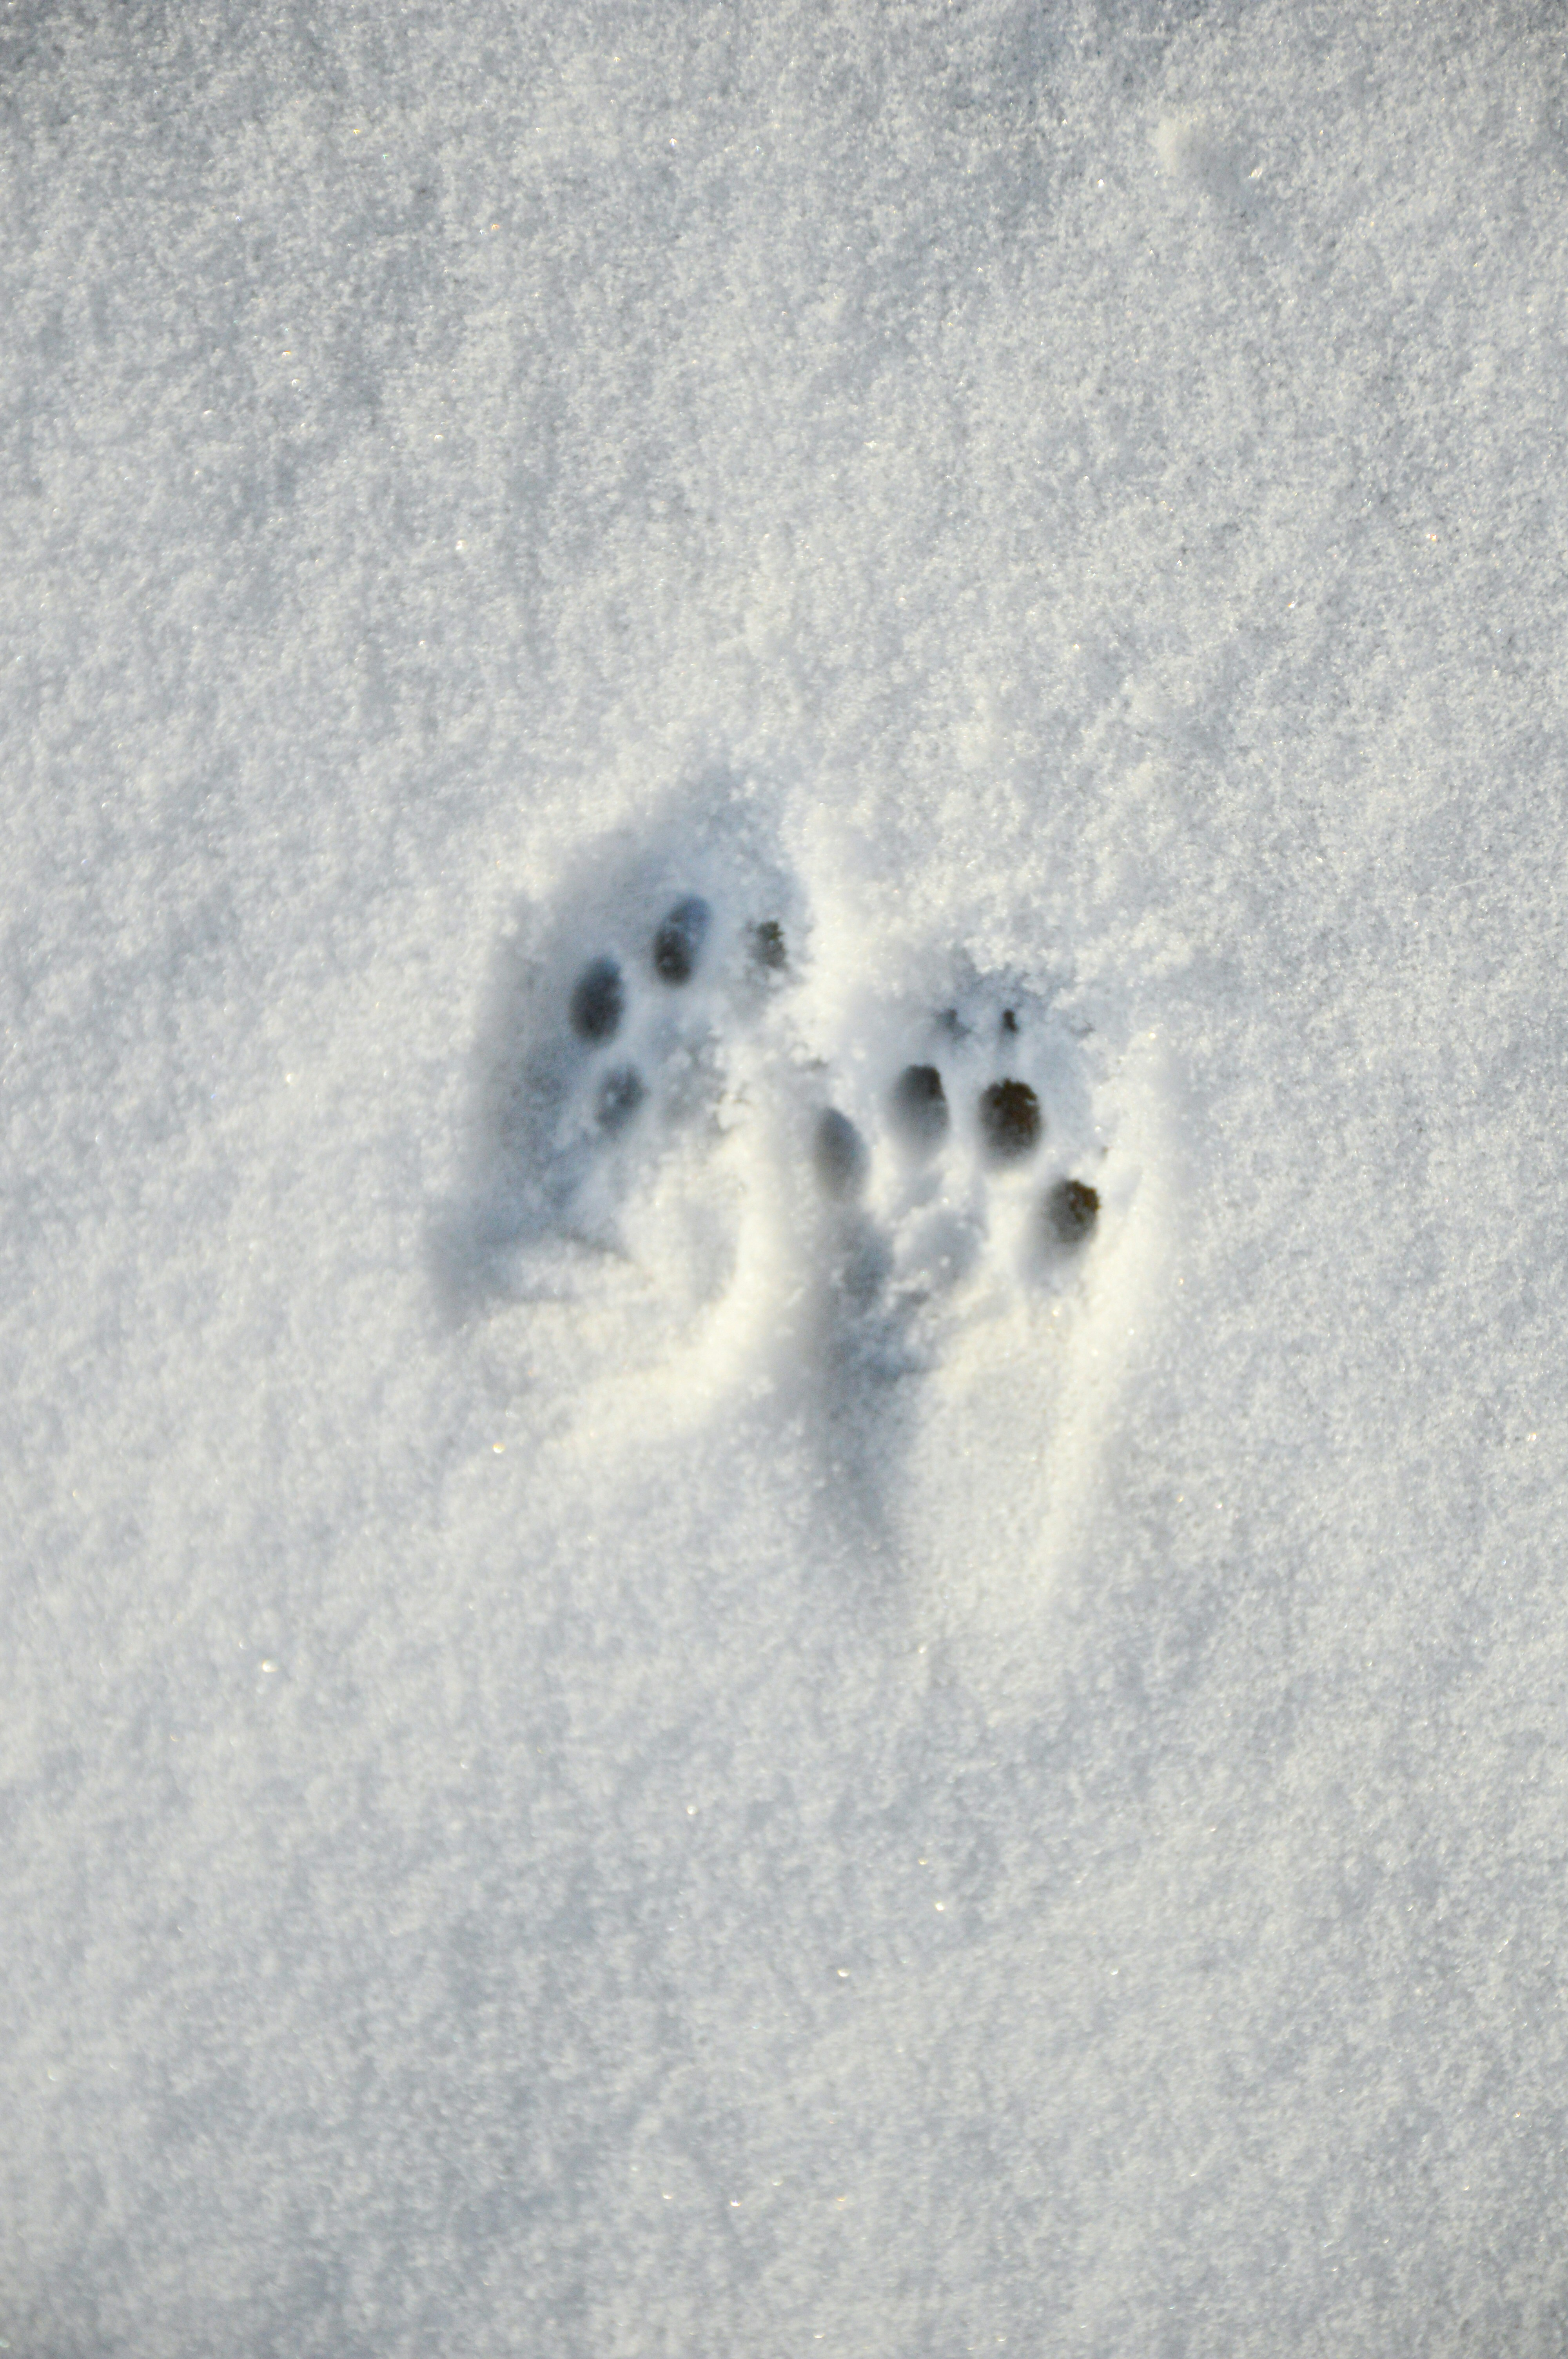cat: (509, 856, 812, 1295), (796, 1059, 1120, 1383)
